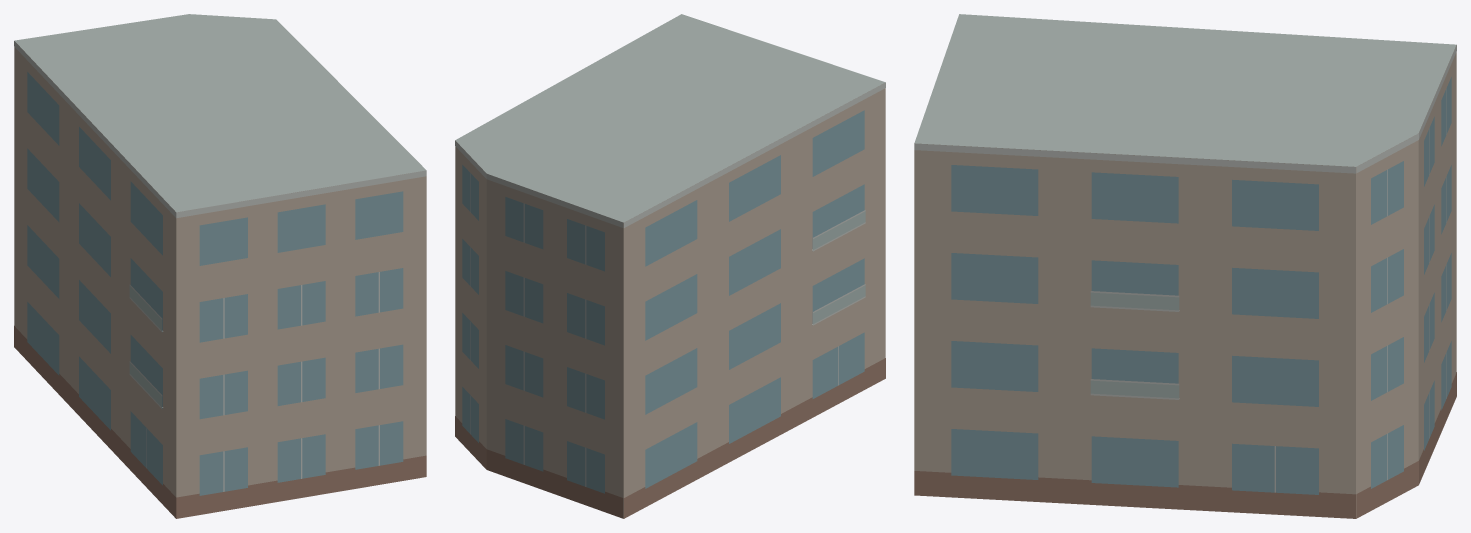
File: survey-upis-32669210.glb
The picture shows the model from 3 angles, left to right: view 1: azimuth 30°, elevation 25°; view 2: azimuth 150°, elevation 25°; view 3: azimuth 270°, elevation 25°; orthographic projection. The views are drawn at different scales.
Visible parts, largest first — view 1: survey-upis-32669210.tmp; view 2: survey-upis-32669210.tmp; view 3: survey-upis-32669210.tmp.
Boxes of the visible parts, bbox=[...] form: survey-upis-32669210.tmp: bbox=[14, 14, 426, 518]; survey-upis-32669210.tmp: bbox=[455, 14, 885, 518]; survey-upis-32669210.tmp: bbox=[914, 14, 1456, 518].
Bounding box in the file's own units: 11.89 × 12.75 × 17.82.
